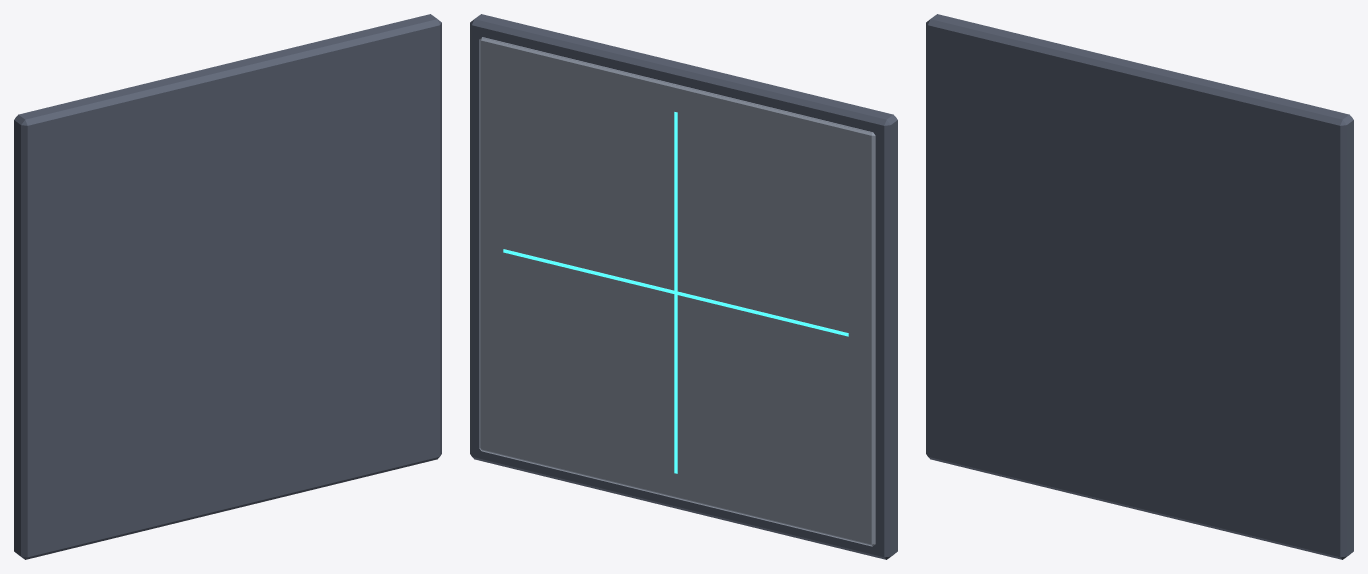
Rendered from platform_arena_small.glb.
The picture shows the model from 3 angles, left to right: view 1: azimuth 30°, elevation 25°; view 2: azimuth 150°, elevation 25°; view 3: azimuth 330°, elevation 25°; orthographic projection.
Parts seen in each view (by area): view 1: platform_arena_small; view 2: platform_arena_small; view 3: platform_arena_small.
Part boxes in pixels (<box>): platform_arena_small: <box>14,14,441,559</box>; platform_arena_small: <box>470,14,897,559</box>; platform_arena_small: <box>926,14,1353,559</box>.
Bounding box in the file's own units: 7 × 7 × 0.406.
